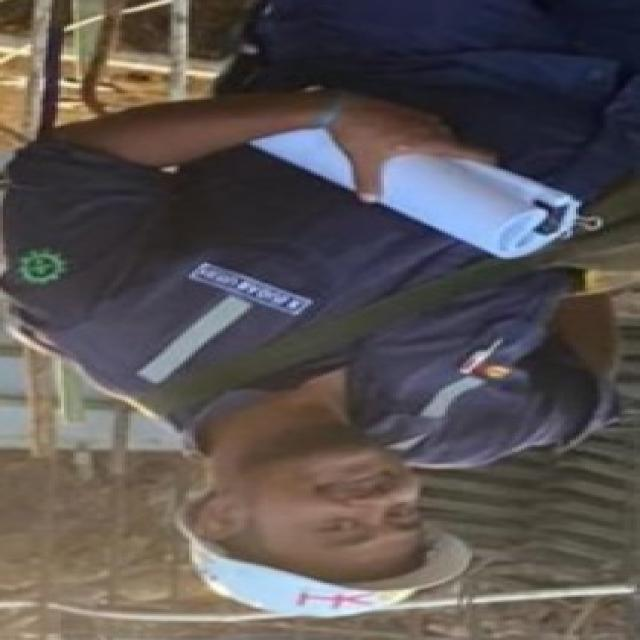safetyhelmet: (189, 456, 485, 618)
